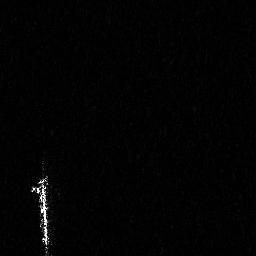ship: (31, 159, 59, 256)
